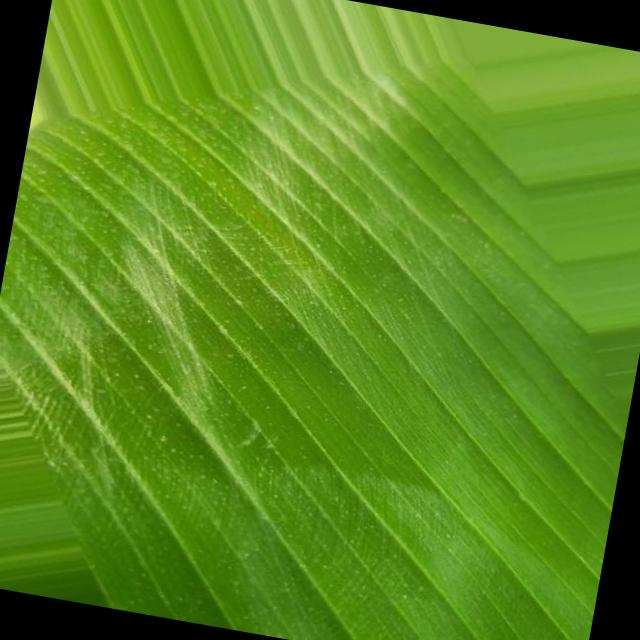Banana_Healthy: (87, 123, 620, 595)
